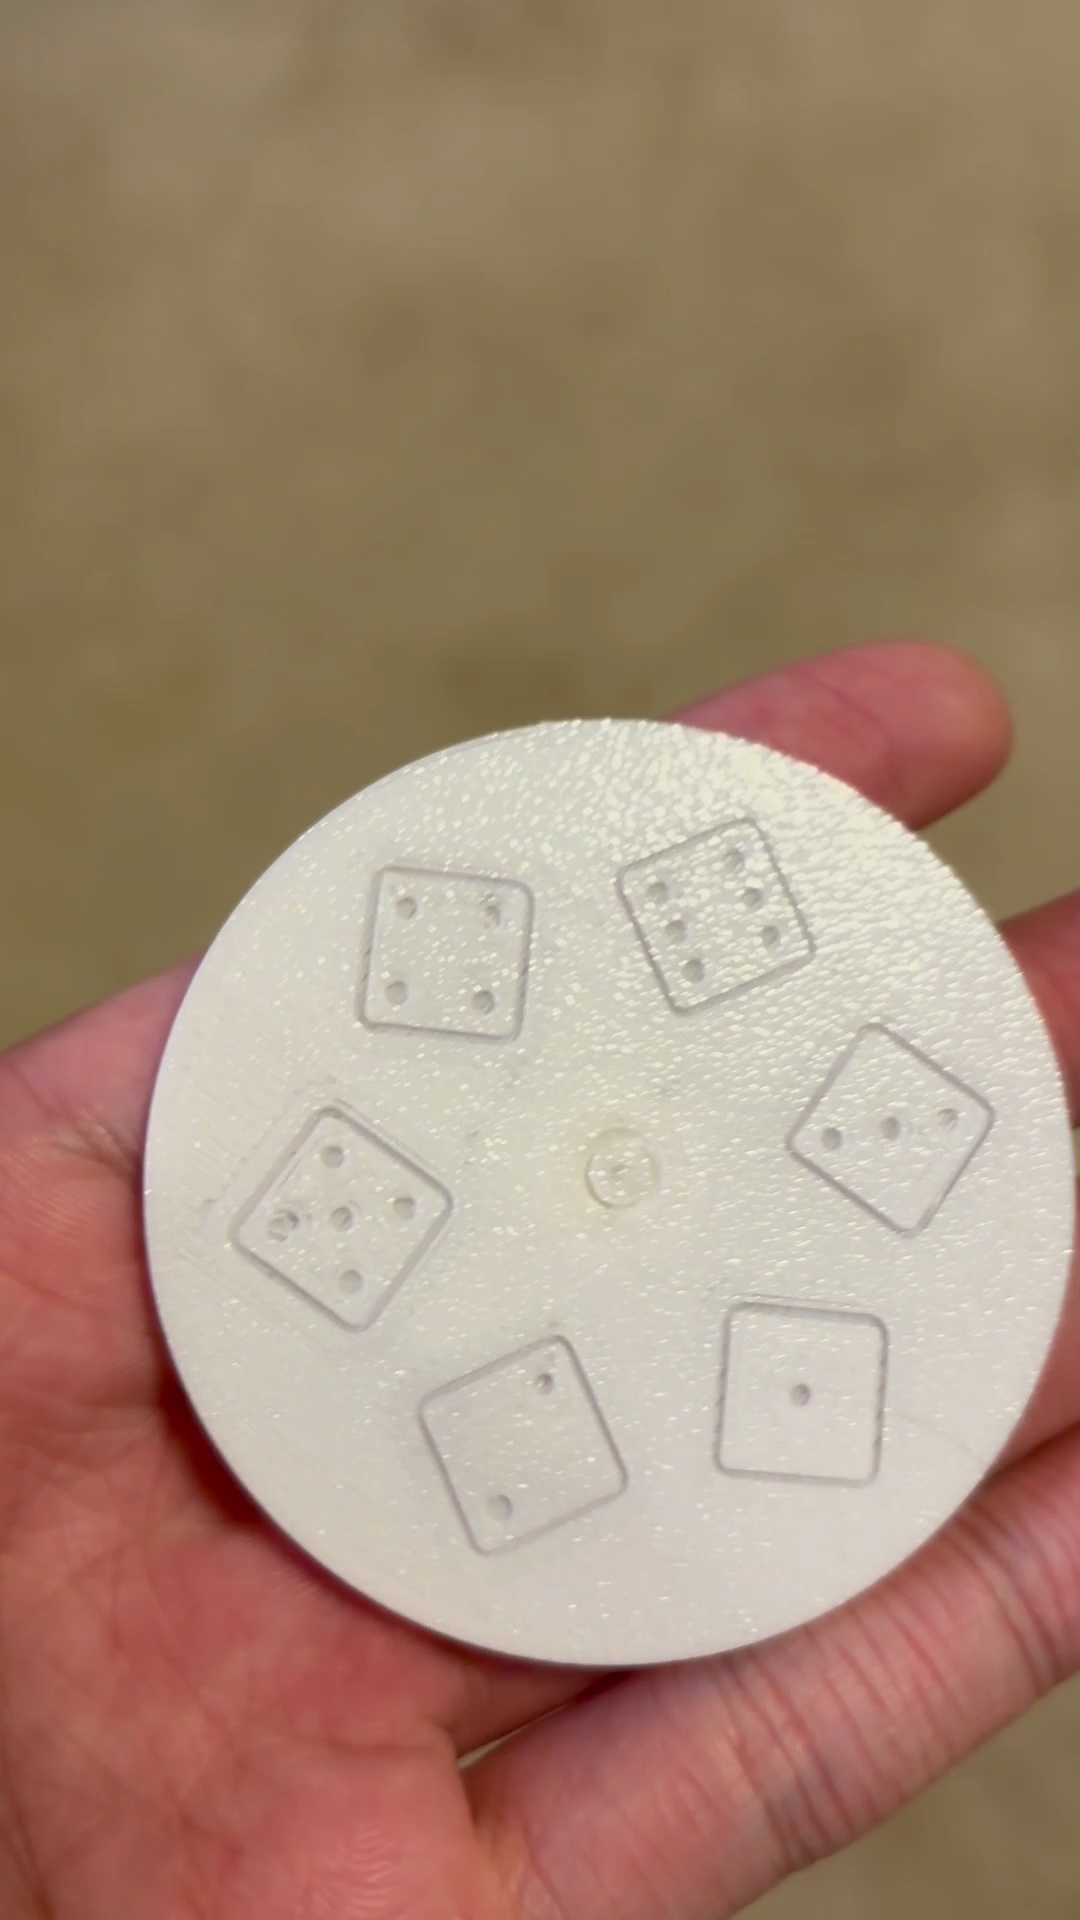Part1: (144, 720, 1073, 1667)
